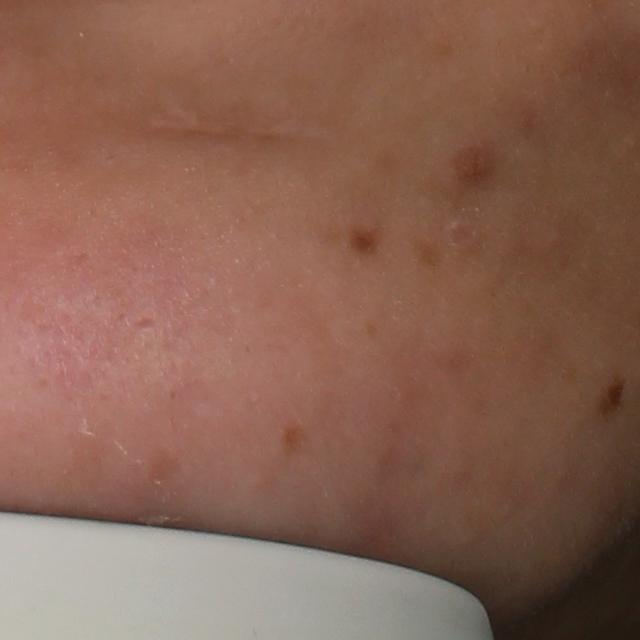atrophic_scar: (128, 314, 157, 332)
nevus: (343, 219, 383, 257), (592, 374, 626, 418)
